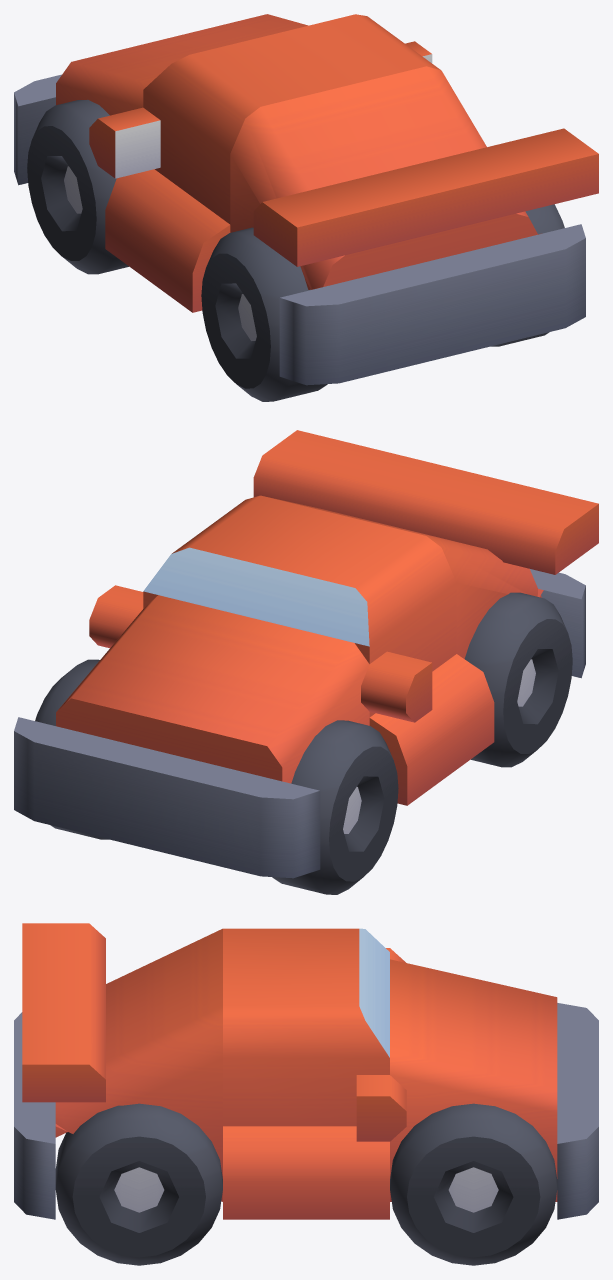
The model's file is vehicle-racer-low.obj.
3 views of the same model, one above another, from view 1: azimuth 30°, elevation 25°; view 2: azimuth 150°, elevation 25°; view 3: azimuth 270°, elevation 25° (orthographic). The views are drawn at different scales.
Parts seen in each view (by area): view 1: vehicle-racer-low, wheel-bl, wheel-fl, wheel-br; view 2: vehicle-racer-low, wheel-bl, wheel-fl, wheel-fr; view 3: vehicle-racer-low, wheel-br, wheel-fr.
Boxes of the visible parts, bbox=[...] form: vehicle-racer-low: bbox=[14, 14, 598, 385]; wheel-bl: bbox=[201, 227, 327, 401]; wheel-fl: bbox=[27, 99, 128, 274]; wheel-br: bbox=[491, 204, 564, 346]; vehicle-racer-low: bbox=[14, 430, 598, 878]; wheel-bl: bbox=[464, 592, 572, 767]; wheel-fl: bbox=[272, 720, 398, 894]; wheel-fr: bbox=[35, 659, 108, 839]; vehicle-racer-low: bbox=[14, 923, 598, 1219]; wheel-br: bbox=[55, 1103, 222, 1265]; wheel-fr: bbox=[390, 1103, 557, 1265].
Bounding box in the file's own units: 0.525 × 0.3875 × 0.875.
1 material, 1 textured.
